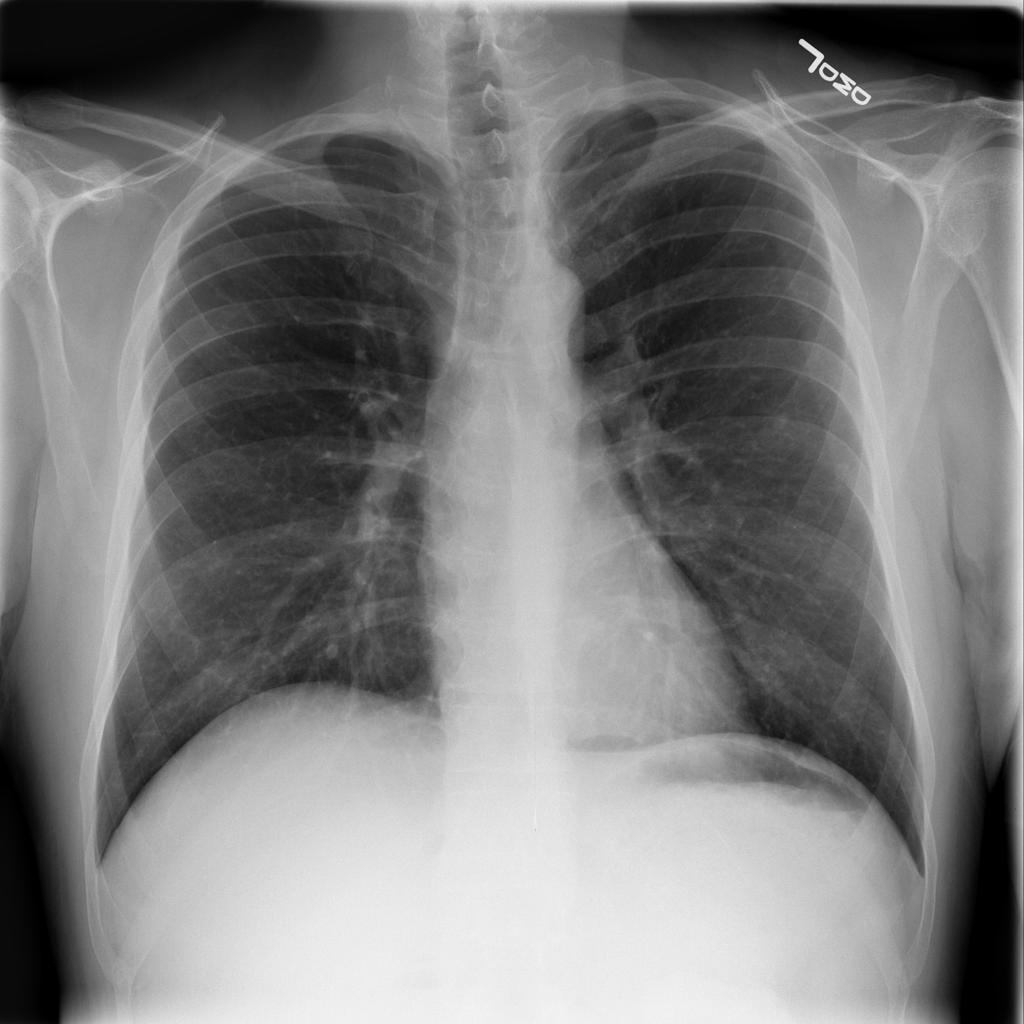nodule: (748, 388, 818, 458)
